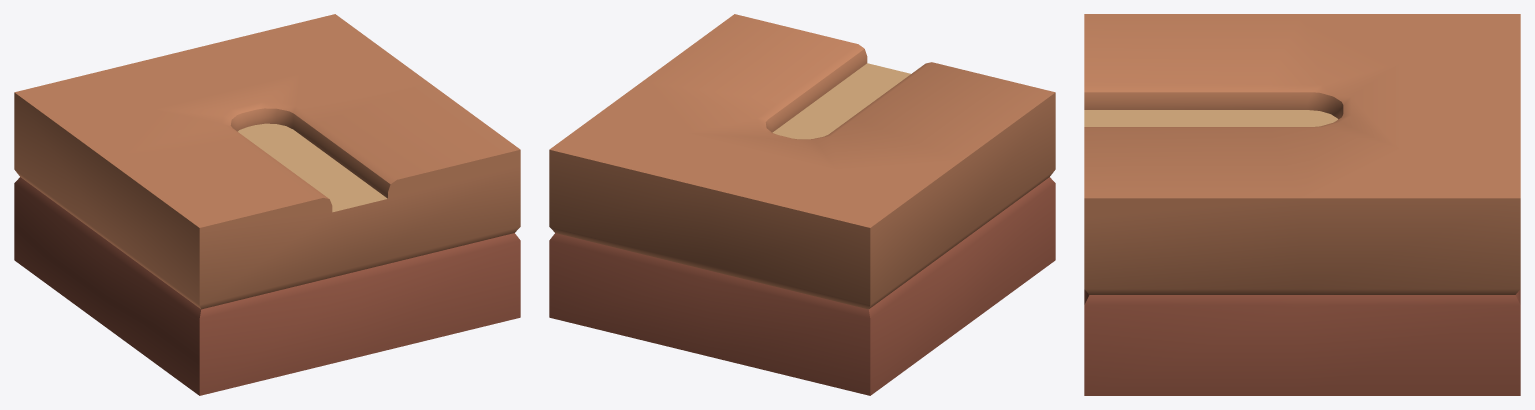
File: kaykit-square-rock-roada-detail.glb
3 renders of one model, left to right at view 1: azimuth 30°, elevation 25°; view 2: azimuth 150°, elevation 25°; view 3: azimuth 270°, elevation 25°, orthographic. The views are drawn at different scales.
Visible parts, largest first — view 1: square_rock_roadA_detail; view 2: square_rock_roadA_detail; view 3: square_rock_roadA_detail.
Part boxes in pixels (box(x1,y1,x2,y2)): square_rock_roadA_detail: box(14, 14, 520, 395); square_rock_roadA_detail: box(549, 14, 1055, 395); square_rock_roadA_detail: box(1084, 14, 1520, 395).
Size of the model in its own units: 2 by 0.9998 by 2.
